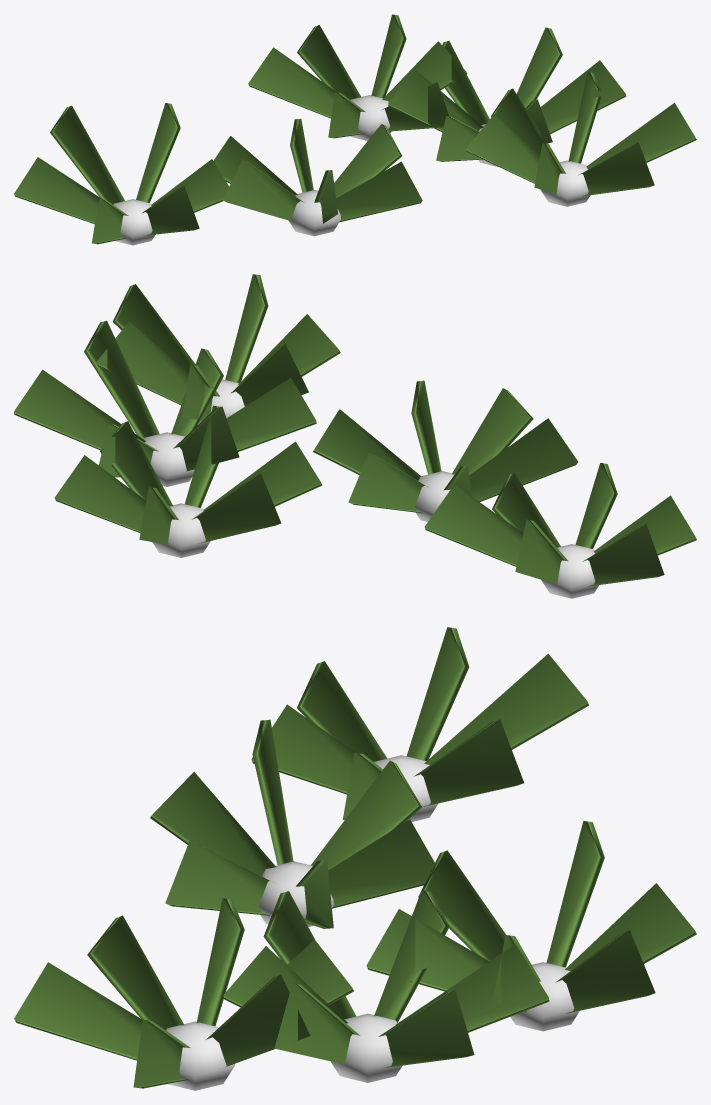
Rendered from farm_rootleaf_stage3.glb.
3 renders of one model, top to bottom at view 1: azimuth 30°, elevation 25°; view 2: azimuth 150°, elevation 25°; view 3: azimuth 270°, elevation 25°, orthographic. The views are drawn at different scales.
Parts seen in each view (by area): view 1: FarmBody, CropAccent; view 2: FarmBody, CropAccent; view 3: FarmBody, CropAccent.
Boxes of the visible parts, x1,y1,x2,y2 form: FarmBody: [14, 14, 696, 244]; CropAccent: [113, 95, 590, 245]; FarmBody: [14, 274, 696, 586]; CropAccent: [144, 379, 598, 598]; FarmBody: [14, 627, 696, 1088]; CropAccent: [166, 755, 579, 1090].
Bounding box in the file's own units: 2.16 × 0.37 × 1.49.
